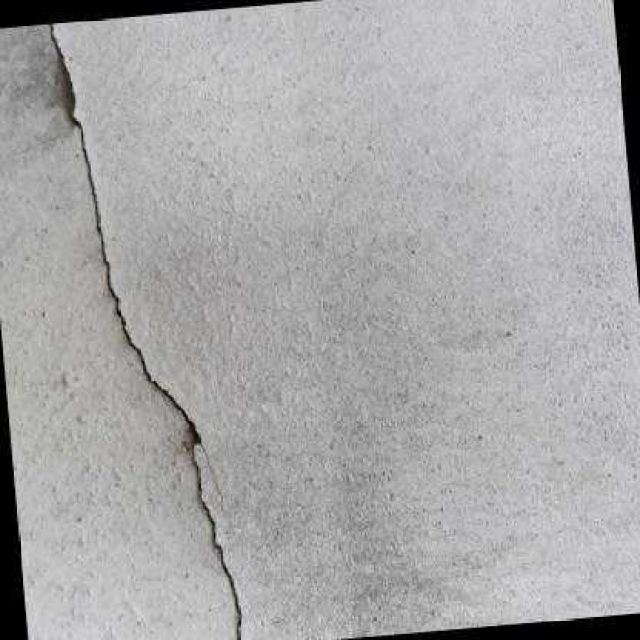D00: (47, 22, 240, 640)
